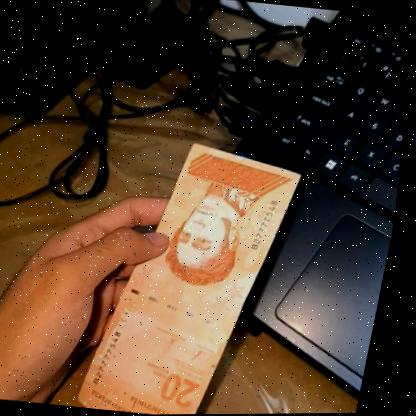twenty-front-vef: (85, 135, 310, 415)
